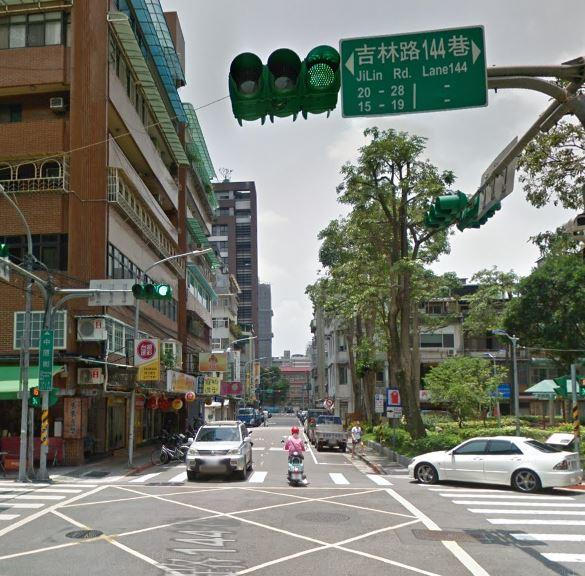green_traffic_light: (225, 41, 341, 123), (131, 281, 173, 300)
